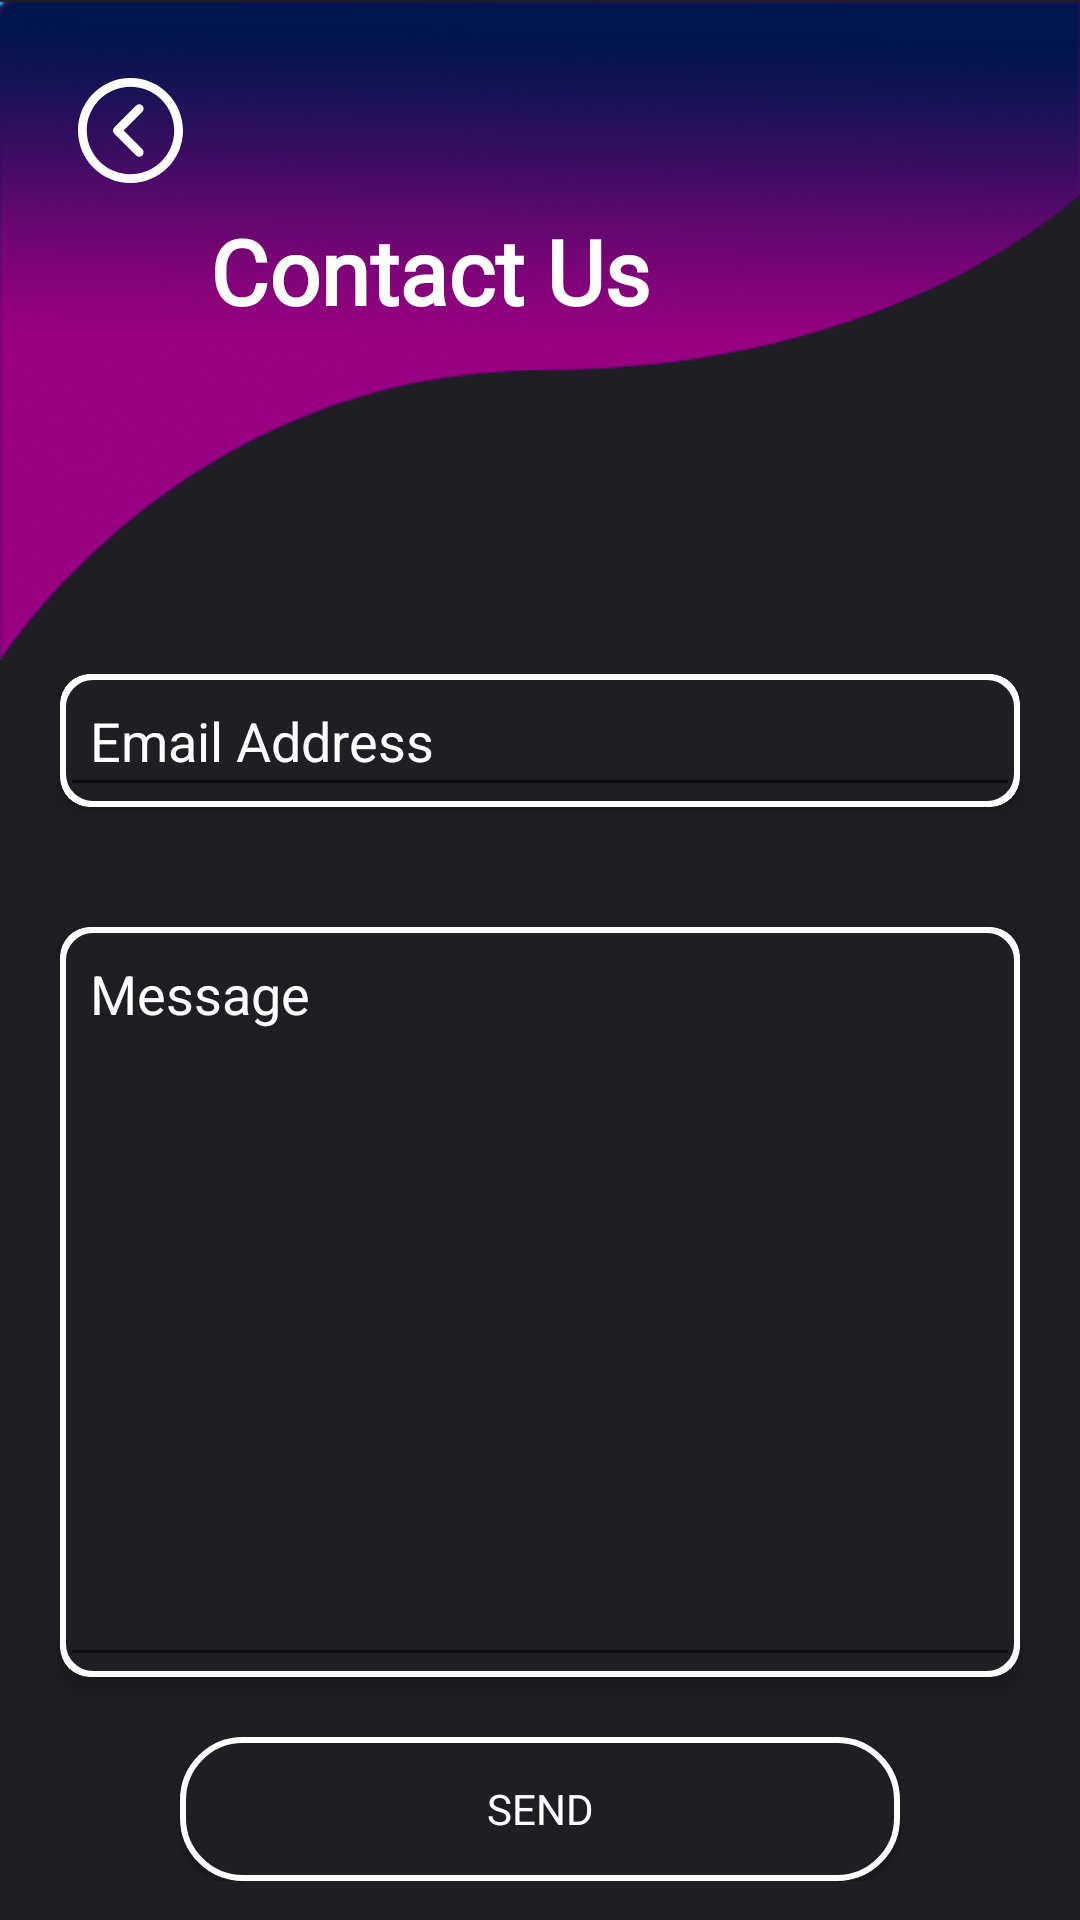

Icons on this 1080*1920 Android screen, each with the point to tap as point (x, y):
previous: point (130, 130)
